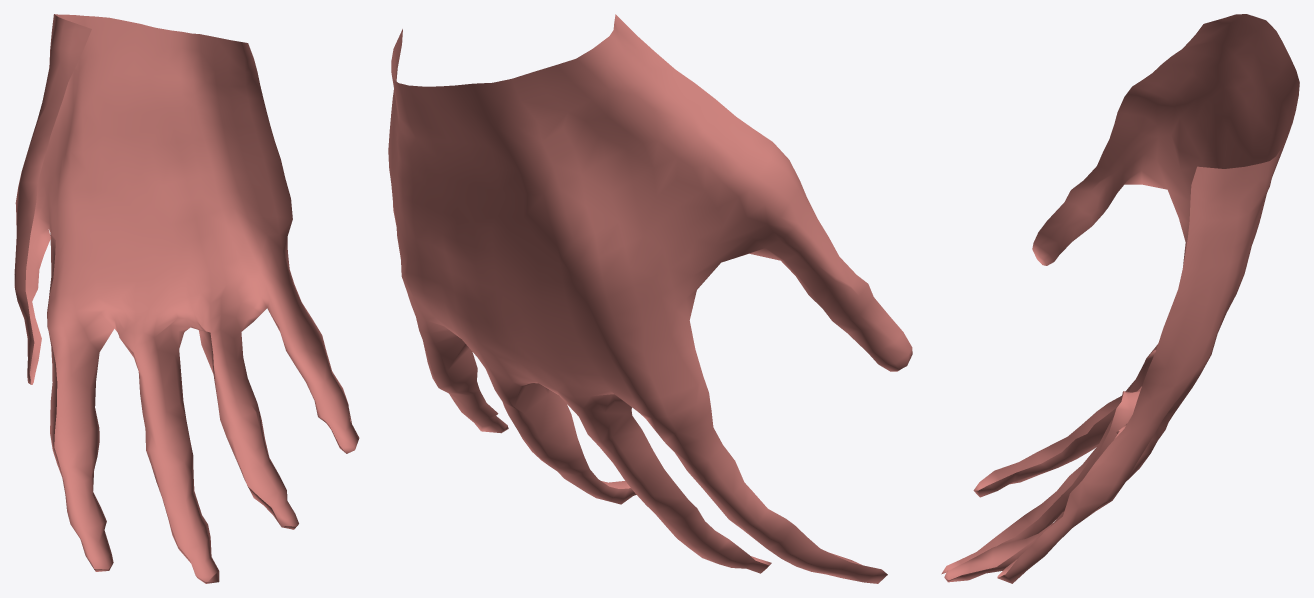
3 views of the same model, side by side, from view 1: azimuth 30°, elevation 25°; view 2: azimuth 150°, elevation 25°; view 3: azimuth 270°, elevation 25° (orthographic). The views are drawn at different scales.
Visible parts, largest first — view 1: ZA_902cd04905d3ed1b; view 2: ZA_902cd04905d3ed1b; view 3: ZA_902cd04905d3ed1b.
Boxes of the visible parts, left/top/right/bottom form: ZA_902cd04905d3ed1b: left=14, top=14, right=359, bottom=583; ZA_902cd04905d3ed1b: left=388, top=14, right=912, bottom=583; ZA_902cd04905d3ed1b: left=941, top=14, right=1299, bottom=583.
Size of the model in its own units: 0.1102 by 0.1566 by 0.0929.
